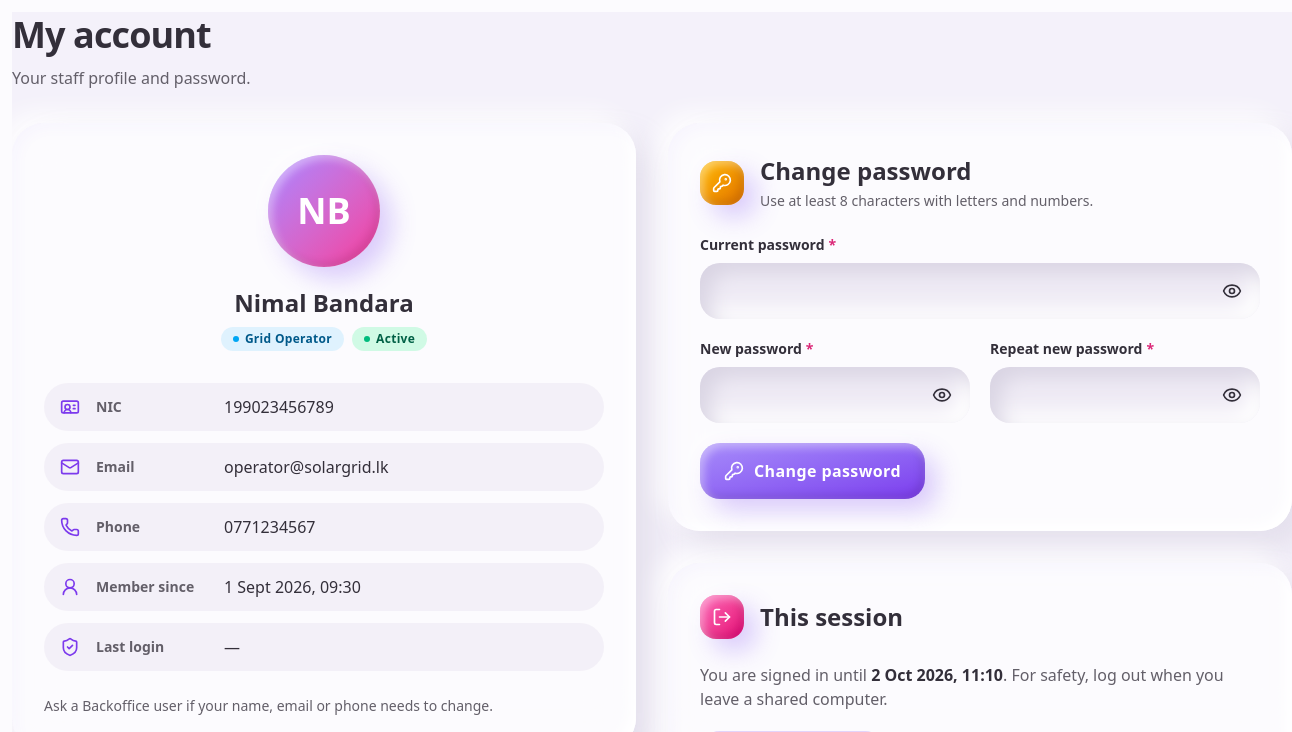
Test: AccountPage › changes the password and clears the form
The width and height of the screenshot is (1292, 732).
Type "Operator@123" into the password field labelled "Current password".
click(980, 291); type("Operator@123")  # box [700,263,1260,319]
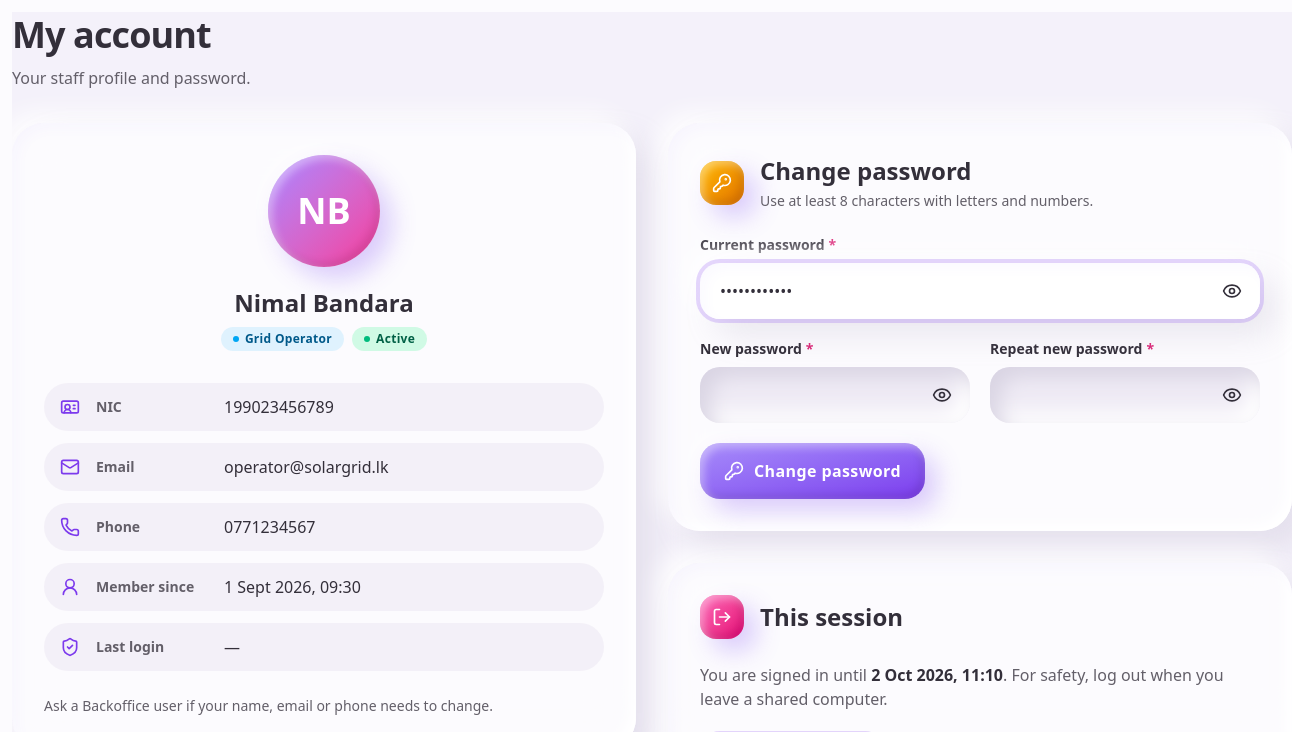
Type "Operator@456" into the password field labelled "New password".
click(835, 395); type("Operator@456")  # box [700,367,970,423]
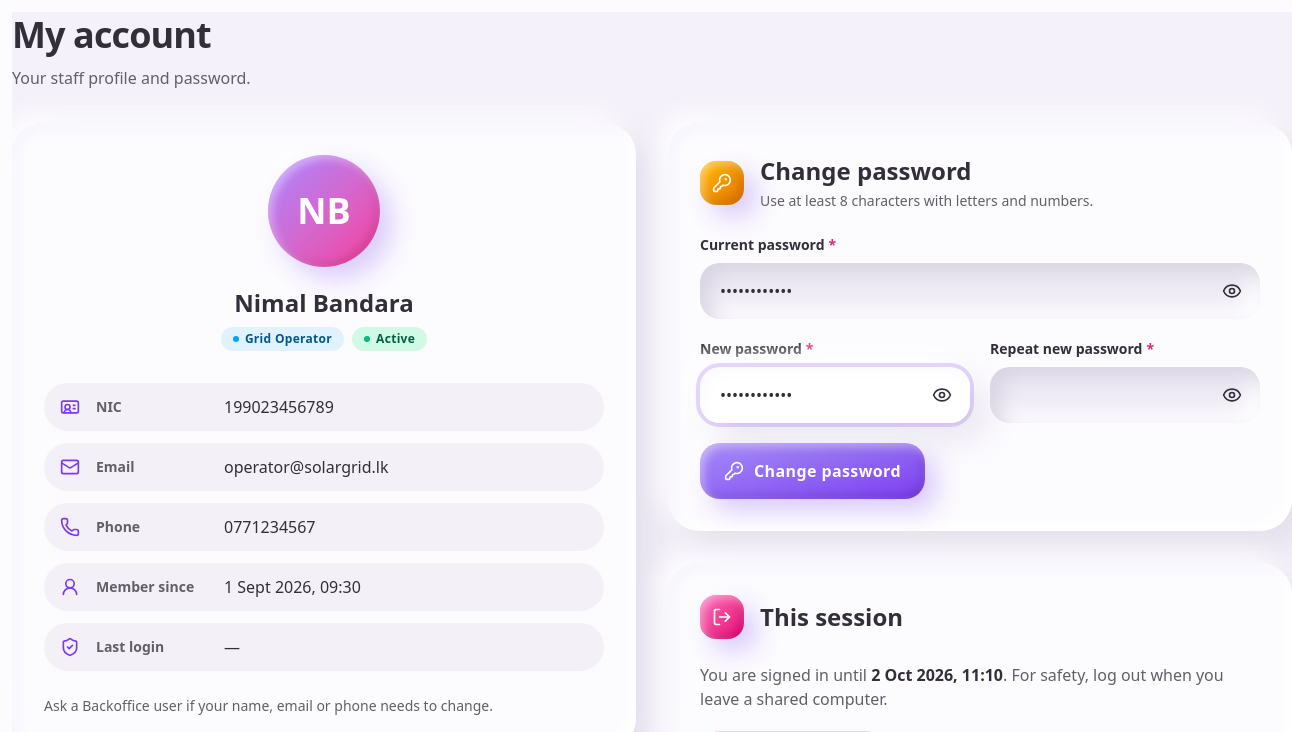
Type "Operator@456" into the password field labelled "Repeat new password".
click(1125, 395); type("Operator@456")  # box [990,367,1260,423]
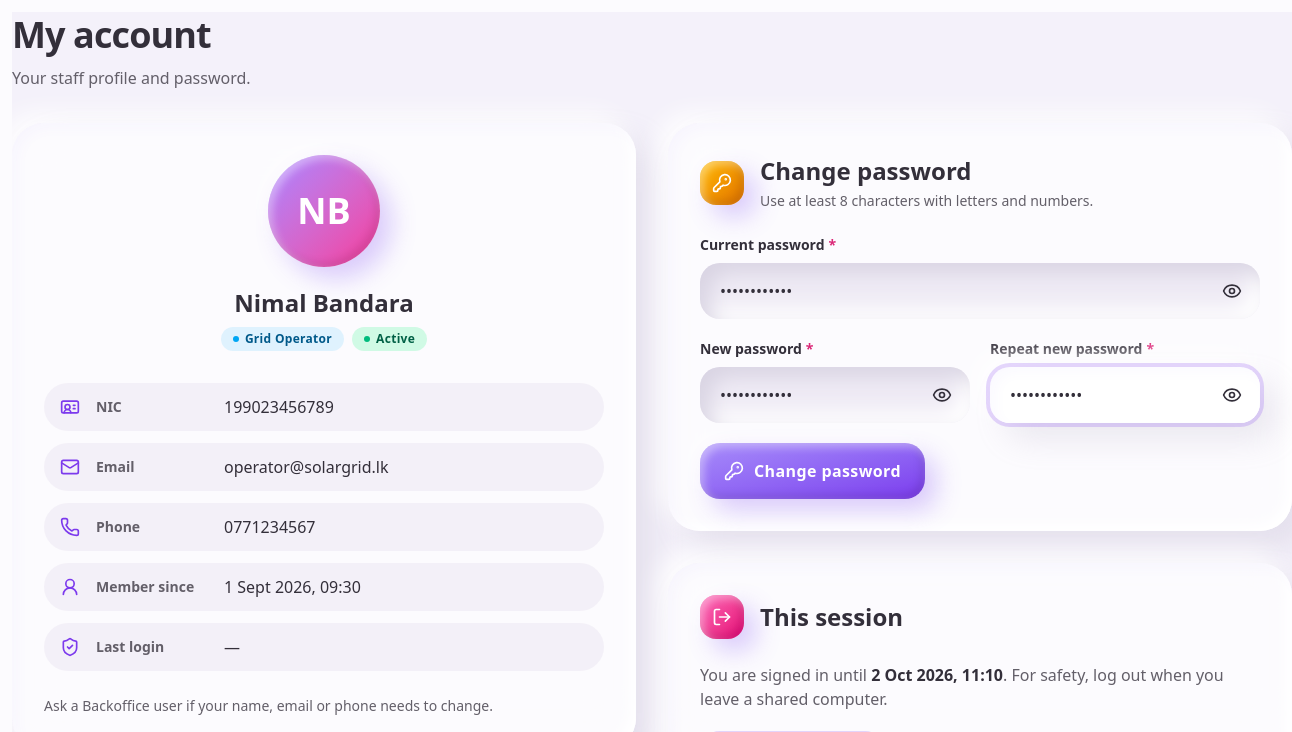
Click the button "Change password".
click(812, 471)  # box [700,443,925,499]
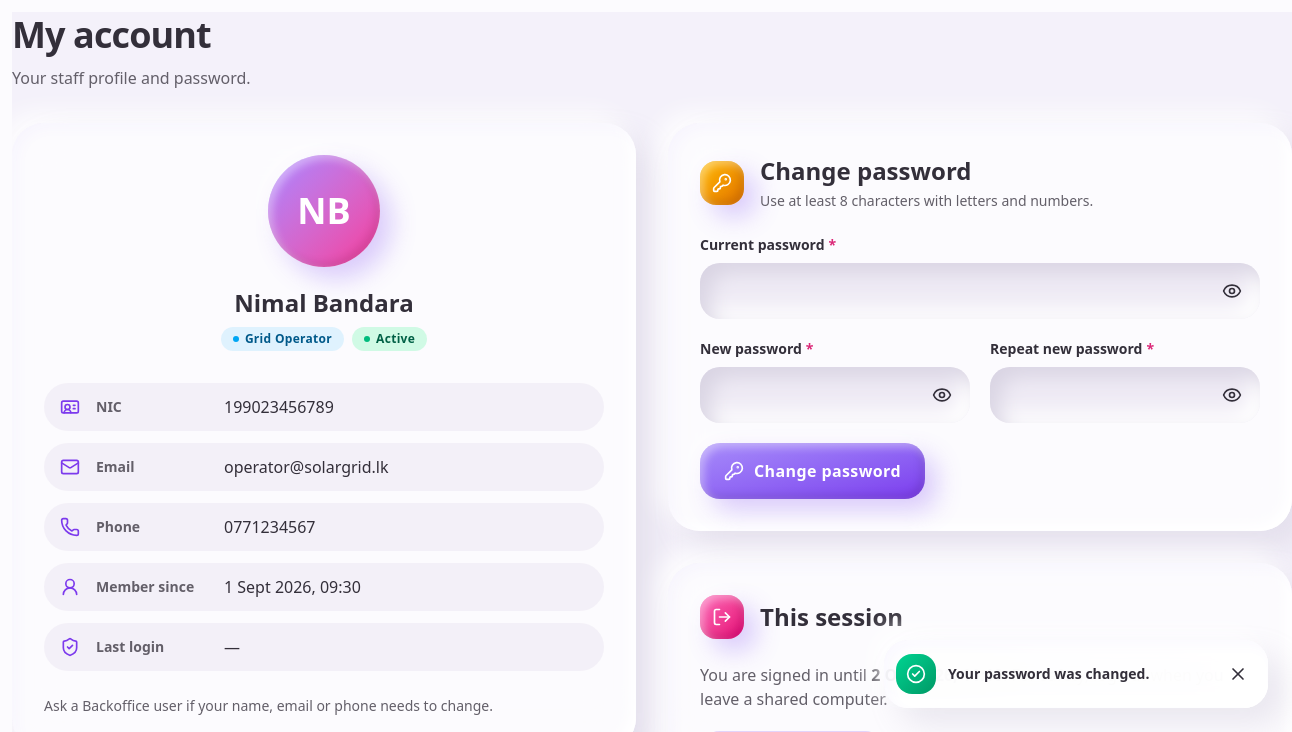
Now the text "Your password was changed." is shown, box [948,664,1149,683]
Now the password field labelled "Current password" is empty, box [700,263,1260,319]
